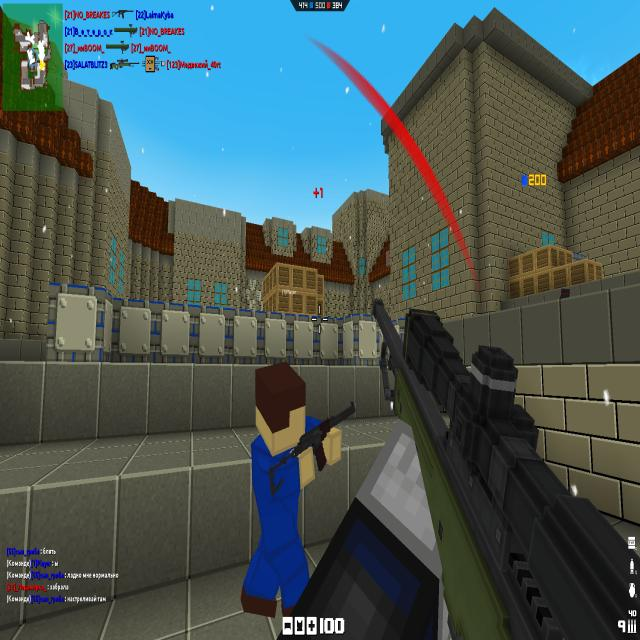player: (242, 354, 340, 618)
